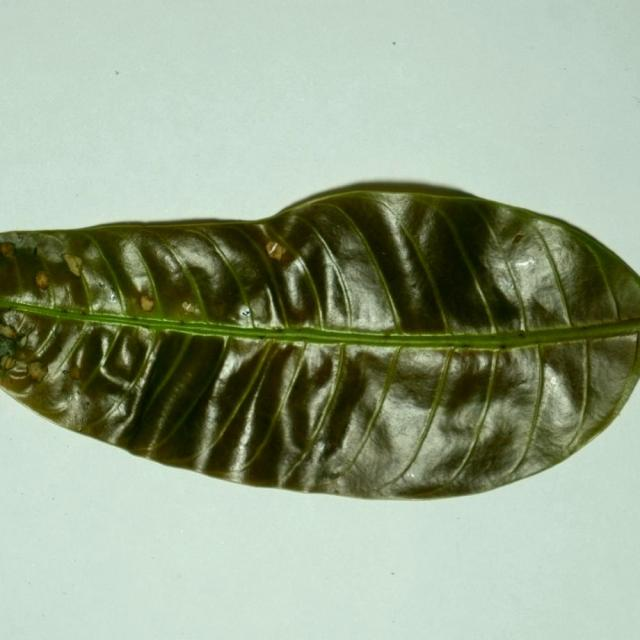Anthracnose: (303, 207, 398, 331), (545, 212, 636, 329), (389, 206, 472, 334), (384, 352, 456, 483), (126, 332, 204, 444), (337, 353, 405, 479), (75, 236, 134, 357), (193, 232, 269, 324), (91, 295, 236, 334), (530, 222, 578, 328), (482, 317, 639, 347), (512, 351, 549, 475), (599, 320, 640, 430), (81, 218, 328, 234), (166, 243, 215, 322), (126, 239, 166, 324), (38, 323, 87, 389), (291, 326, 477, 342), (6, 297, 104, 326), (6, 241, 34, 312), (33, 241, 57, 309)
Mango: (0, 181, 639, 505)
